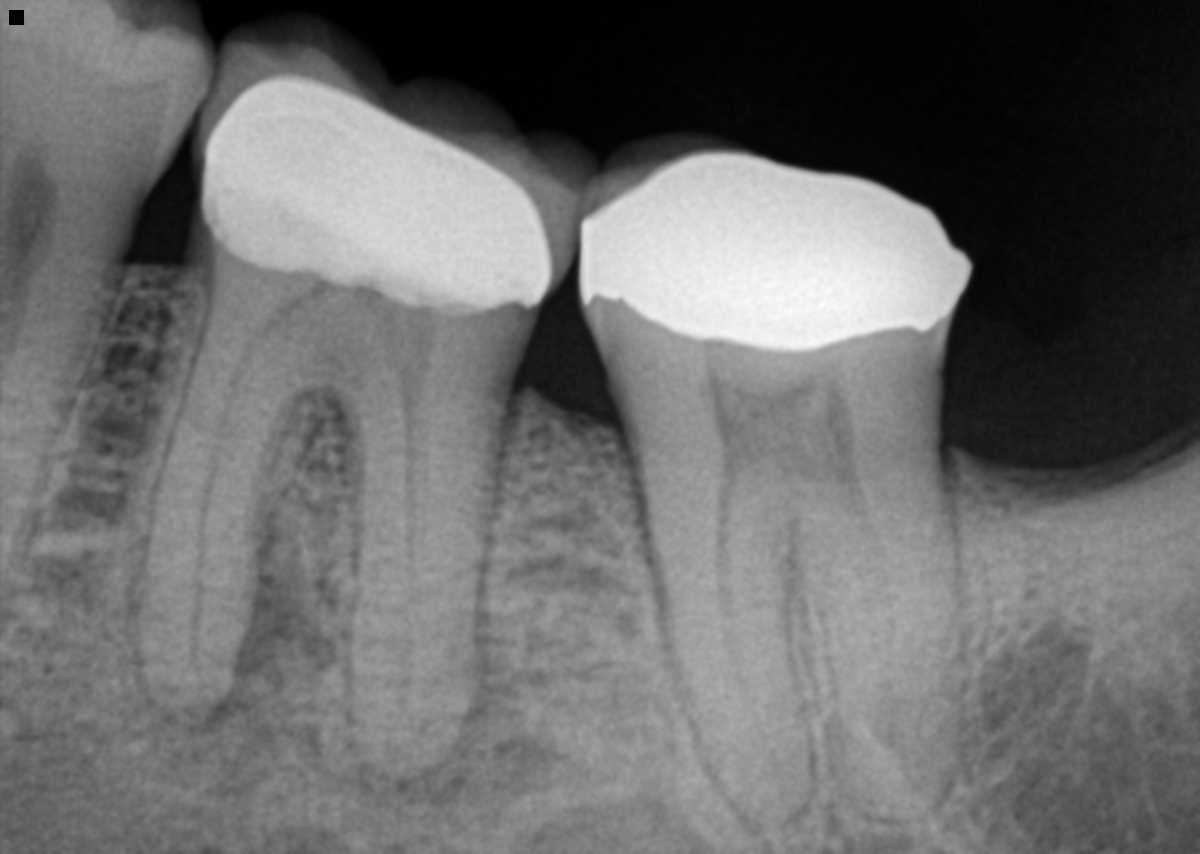Apical Lesion: (126, 538, 328, 794), (358, 641, 555, 825)
Distal Canal: (838, 489, 897, 724), (401, 401, 428, 705)
Distal Root: (798, 459, 967, 821), (346, 396, 507, 774)
Main Canal: (0, 249, 43, 376)
Main Root: (0, 249, 123, 570)
Mesial Canal: (710, 487, 790, 800), (188, 361, 251, 699)
Mesial Root: (134, 336, 321, 719), (637, 472, 816, 824)
